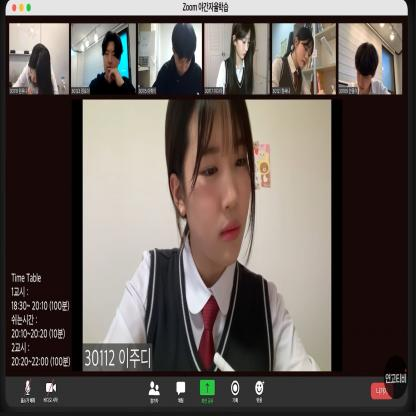streamer: (84, 98, 323, 371), (151, 23, 202, 95), (84, 28, 136, 94), (216, 23, 257, 94), (272, 28, 314, 95), (11, 42, 59, 96), (347, 40, 392, 94)
